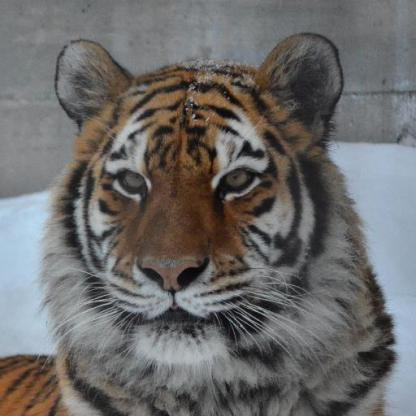tiger: (58, 44, 344, 353)
